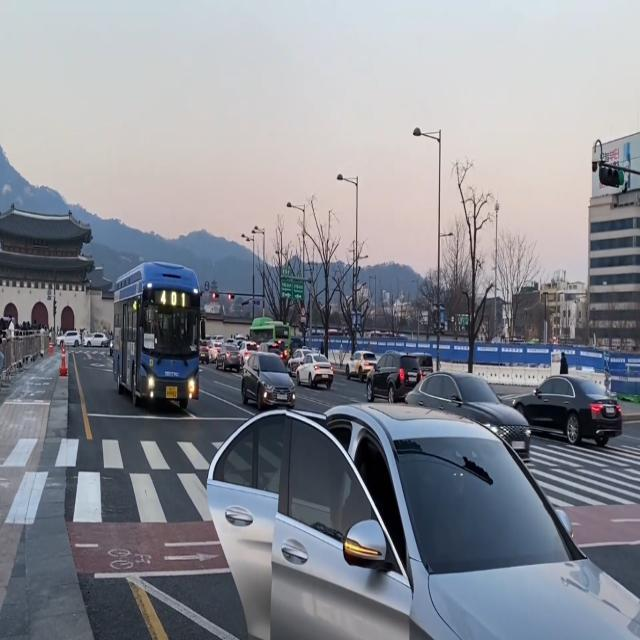bus-number: (160, 290, 185, 308)
